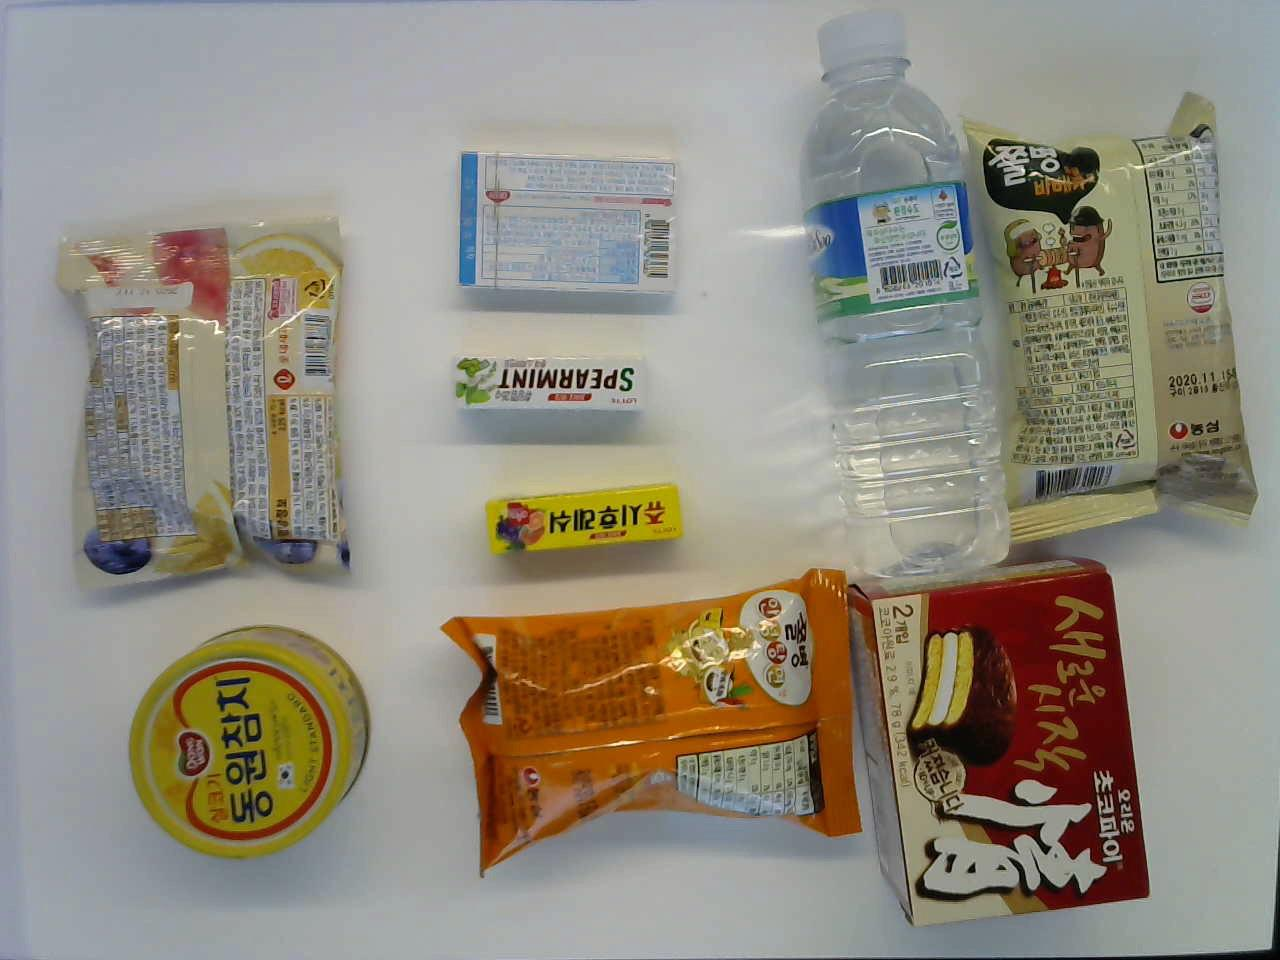ID_gum: (455, 141, 687, 304)
chocopie: (844, 553, 1153, 928)
gumi_gumi: (41, 214, 358, 590)
jjolbyung_noodle: (441, 565, 857, 881)
jjolbyung_ori: (957, 91, 1261, 549)
juicyfresh: (475, 477, 688, 571)
samdasu: (786, 10, 1012, 589)
spearmint: (443, 343, 656, 419)
tuna: (123, 621, 371, 868)
